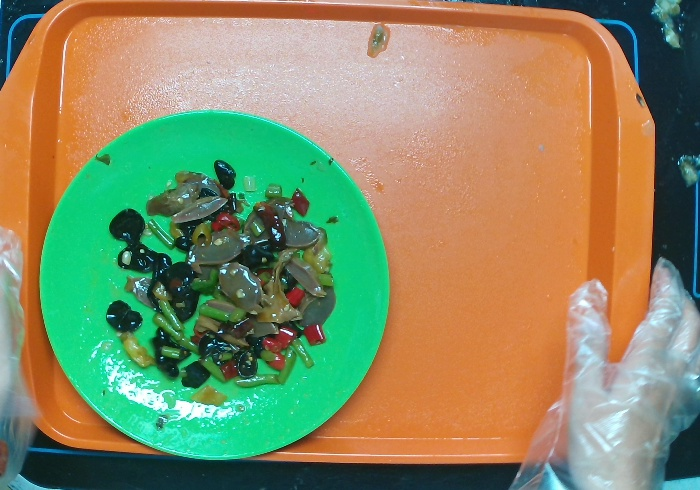HZYJPL-Lv_Se_Yuan_Pan: (37, 110, 392, 463)
